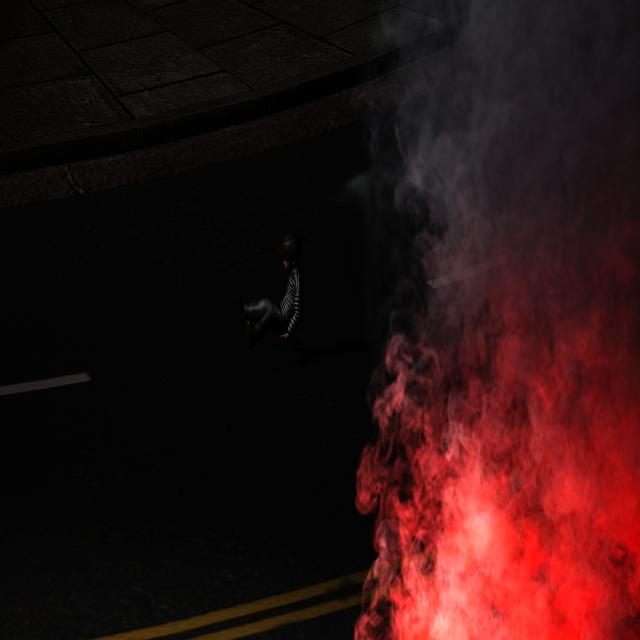Human: (235, 233, 306, 357)
